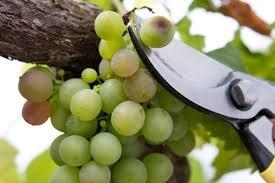Grape Rotten: (18, 5, 195, 182)
